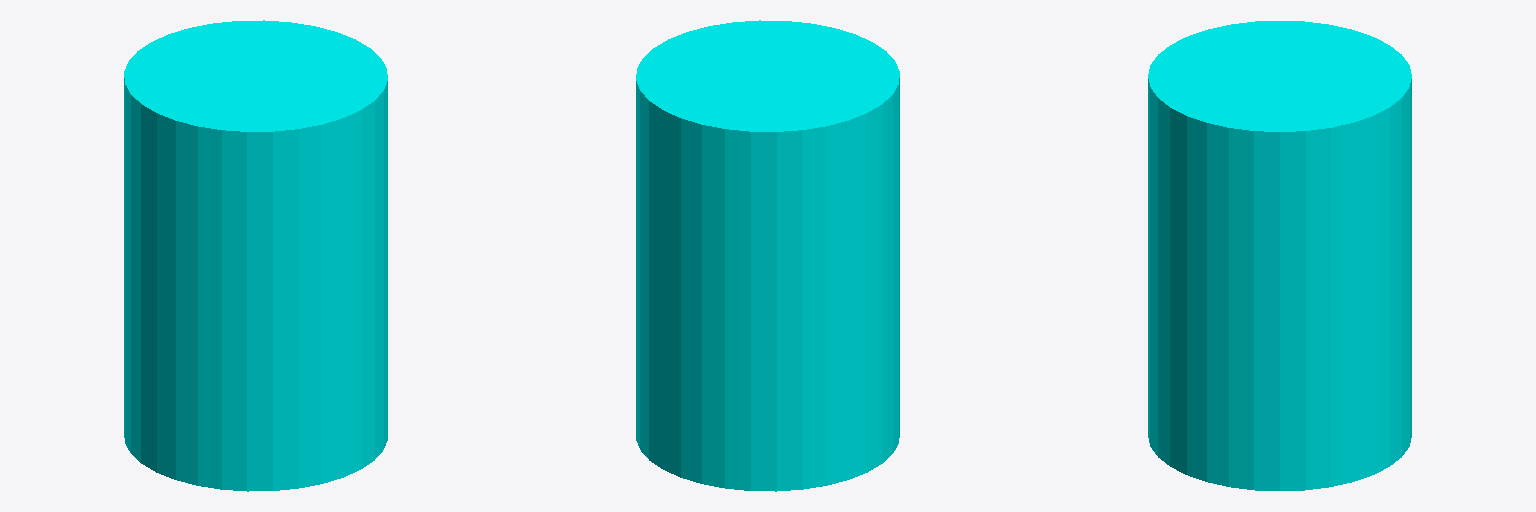
robot.urdf — cylinder:
<robot name="cylinder">
  <material name="Cyan">
    <color rgba="0 1.0 1.0 1.0"/>
  </material>
  
 <link name="cylinder">
    <inertial>
      <origin xyz="0 0 0" rpy="0 0 0"/>
      <mass value="0.15"/>
      <inertia ixx=" 0"  ixy="0"  ixz="0" iyy=" 0" iyz="0" izz="0" />
    </inertial>

    <visual>
      <origin xyz="0 0 0" rpy="0 0 0" />
      <geometry>
       <cylinder radius="0.025" length="0.075"/>
      </geometry>
      <material name="Cyan" />
    </visual>

    <collision>
      <origin xyz="0 0 0" rpy="0 0 0"/>
      <geometry>
       <cylinder radius="0.025" length="0.075"/>
      </geometry>
    </collision>
  </link>
</robot>

--- Render facts (derived) ---
3 views of the same robot in one strip: view 1: azimuth 30°, elevation 25°; view 2: azimuth 150°, elevation 25°; view 3: azimuth 270°, elevation 25° (orthographic).
Robot: cylinder — 1 links, 0 joints (none); root link cylinder; default pose: all joints at 0.
Links seen in each view (by area): view 1: cylinder; view 2: cylinder; view 3: cylinder.
Boxes of the visible links, x1=… form: cylinder: x1=124, y1=20, x2=387, y2=491; cylinder: x1=636, y1=20, x2=899, y2=491; cylinder: x1=1148, y1=21, x2=1411, y2=490.
Bounding box of the posed robot: 0.05 × 0.05 × 0.075 m (x, y, z).
Geometry: primitives only (box / cylinder / sphere), no mesh files.